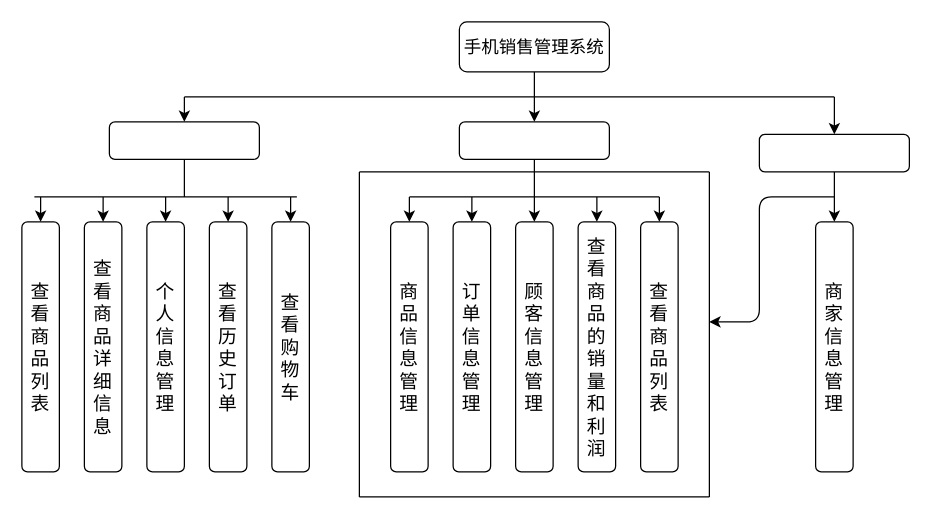
Some shapes in this 931 by 520 pixel diagram are drawn without their labels. Here are the shapes that lost their labels. From the top down, the centre of each, then its label:
[183,140]: 顾客
[533,140]: 商家
[833,152]: 管理员
